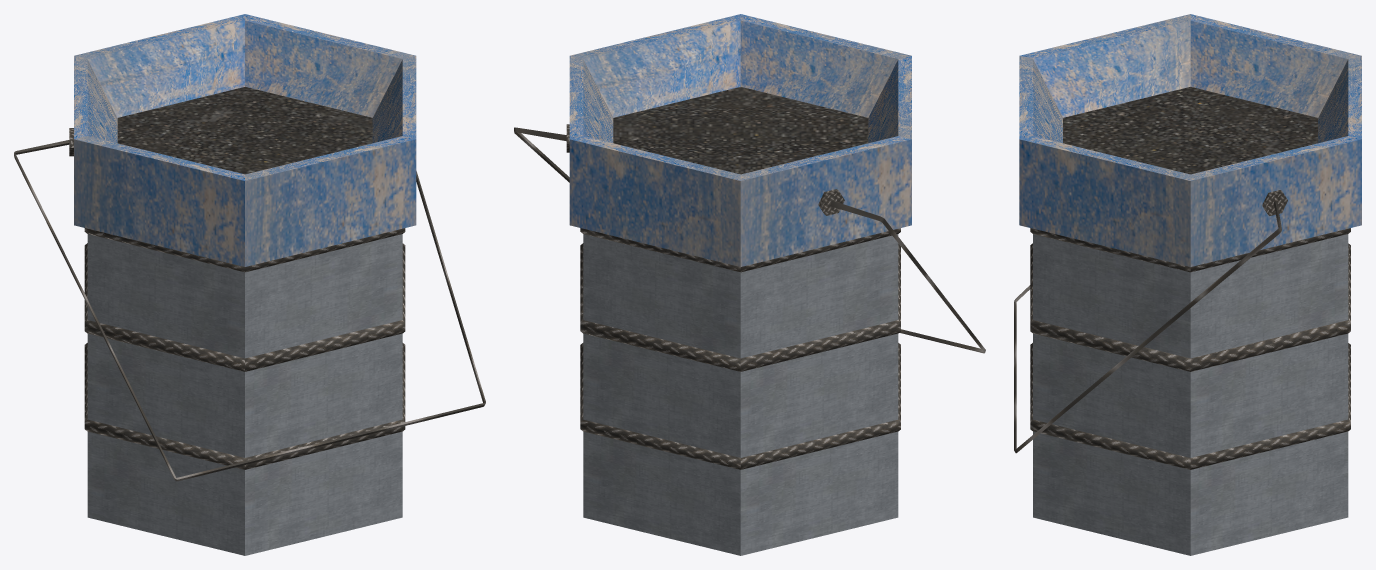
Rendered from Paint Bucket.fbx.
The picture shows the model from 3 angles, left to right: view 1: azimuth 30°, elevation 25°; view 2: azimuth 150°, elevation 25°; view 3: azimuth 270°, elevation 25°; orthographic projection.
Parts seen in each view (by area): view 1: Cylinder008; view 2: Cylinder008; view 3: Cylinder008.
Part boxes in pixels (bbox=[...]): Cylinder008: bbox=[14, 14, 485, 555]; Cylinder008: bbox=[514, 14, 985, 555]; Cylinder008: bbox=[1014, 14, 1361, 555].
Size of the model in its own units: 42.39 by 41.74 by 34.47.
Materials: 1 (1 with a texture image).
